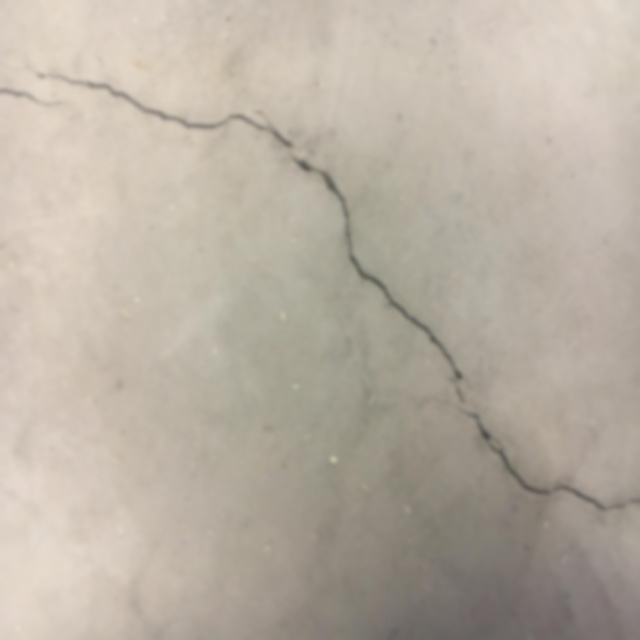SurfaceCrack: (2, 10, 640, 575)
